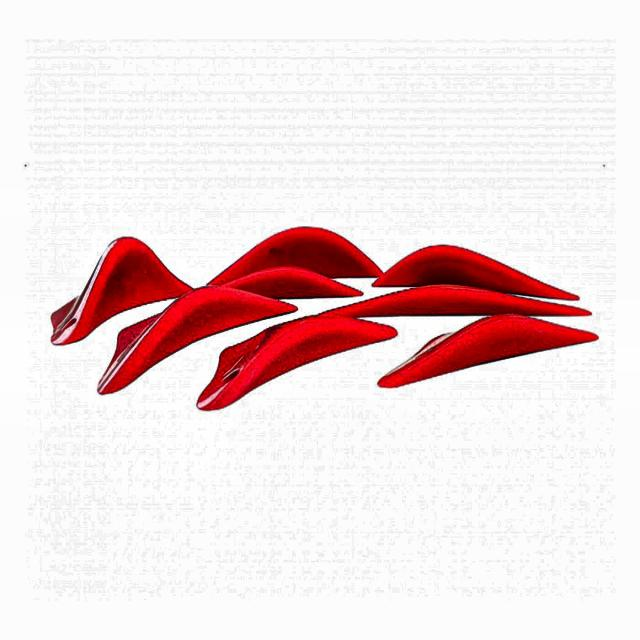Hold: (64, 283, 268, 393), (373, 232, 583, 321), (209, 318, 390, 414), (378, 317, 590, 395), (50, 240, 194, 342), (218, 229, 386, 303)
